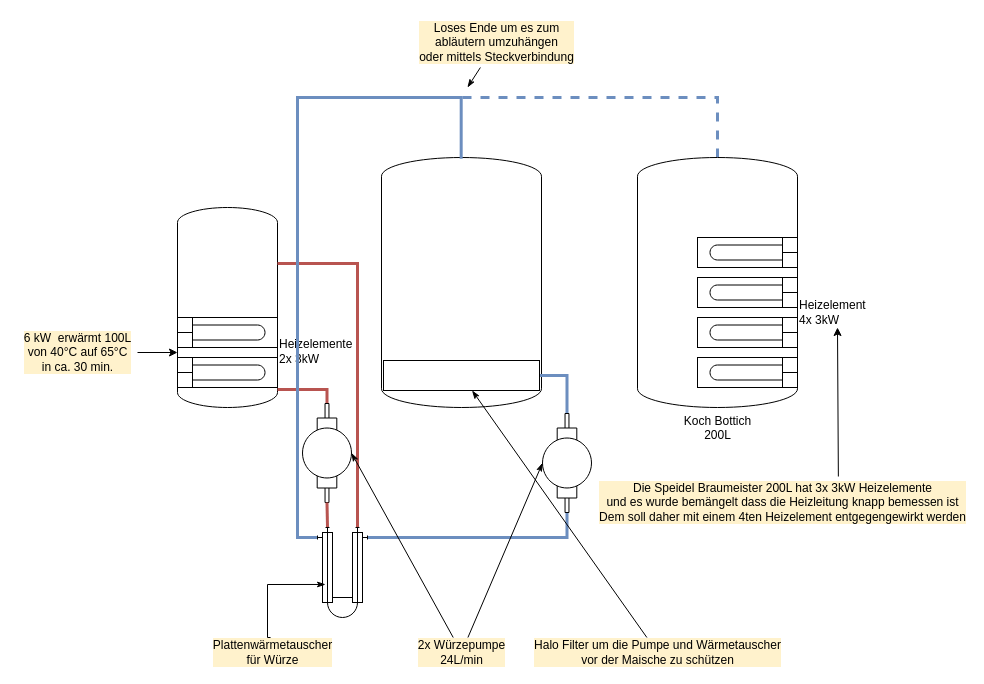
Some shapes in this 984 by 684 pixel diagram are drawn without their labels. Here are the shapes that lost their labels. From the top down, the box of each, then its label:
(380, 156, 542, 408): Maische/Läuter Bottich 200L
(176, 206, 278, 408): Heißwasser Bottich 100L
